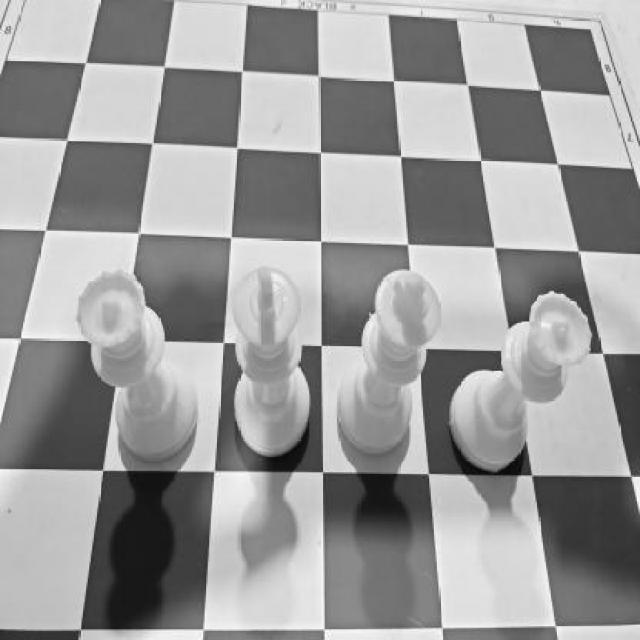white-king: (335, 268, 444, 457), (230, 260, 312, 459)
white-queen: (450, 290, 595, 472), (76, 269, 200, 462)
